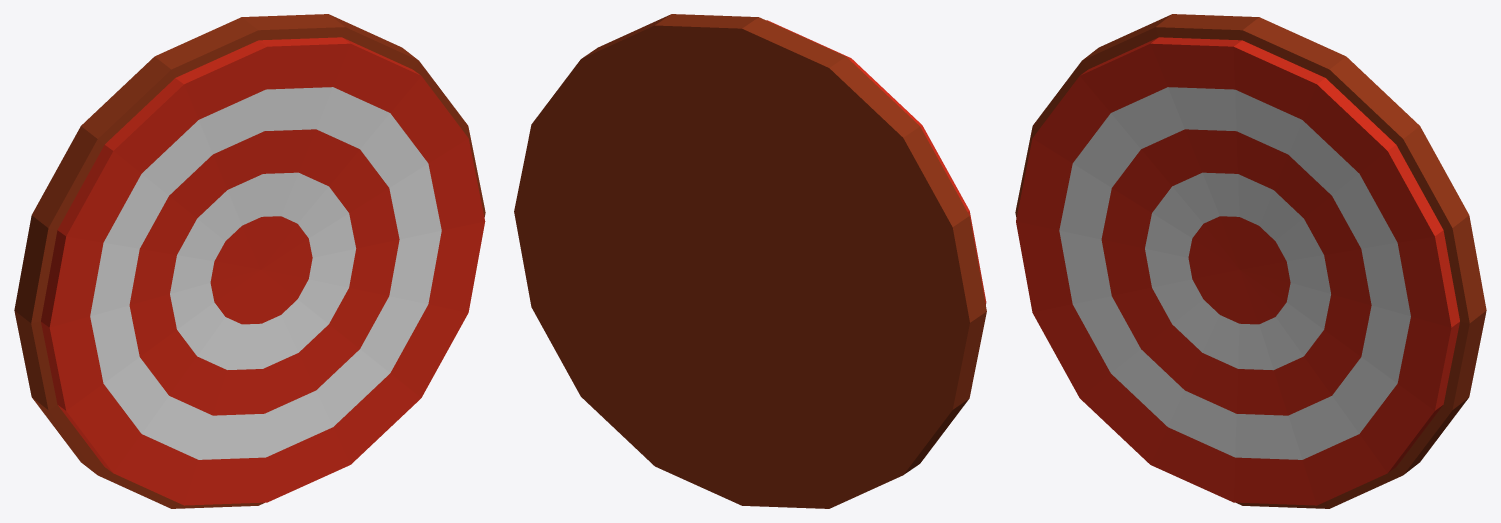
Rendered from target.fbx.
3 views of the same model, side by side, from view 1: azimuth 30°, elevation 25°; view 2: azimuth 150°, elevation 25°; view 3: azimuth 330°, elevation 25° (orthographic).
Visible parts, largest first — view 1: Target; view 2: Target; view 3: Target.
Boxes of the visible parts, <box> form: Target: <box>14,14,485,508</box>; Target: <box>514,14,986,508</box>; Target: <box>1015,14,1486,508</box>.
Size of the model in its own units: 123 by 123 by 12.06.
